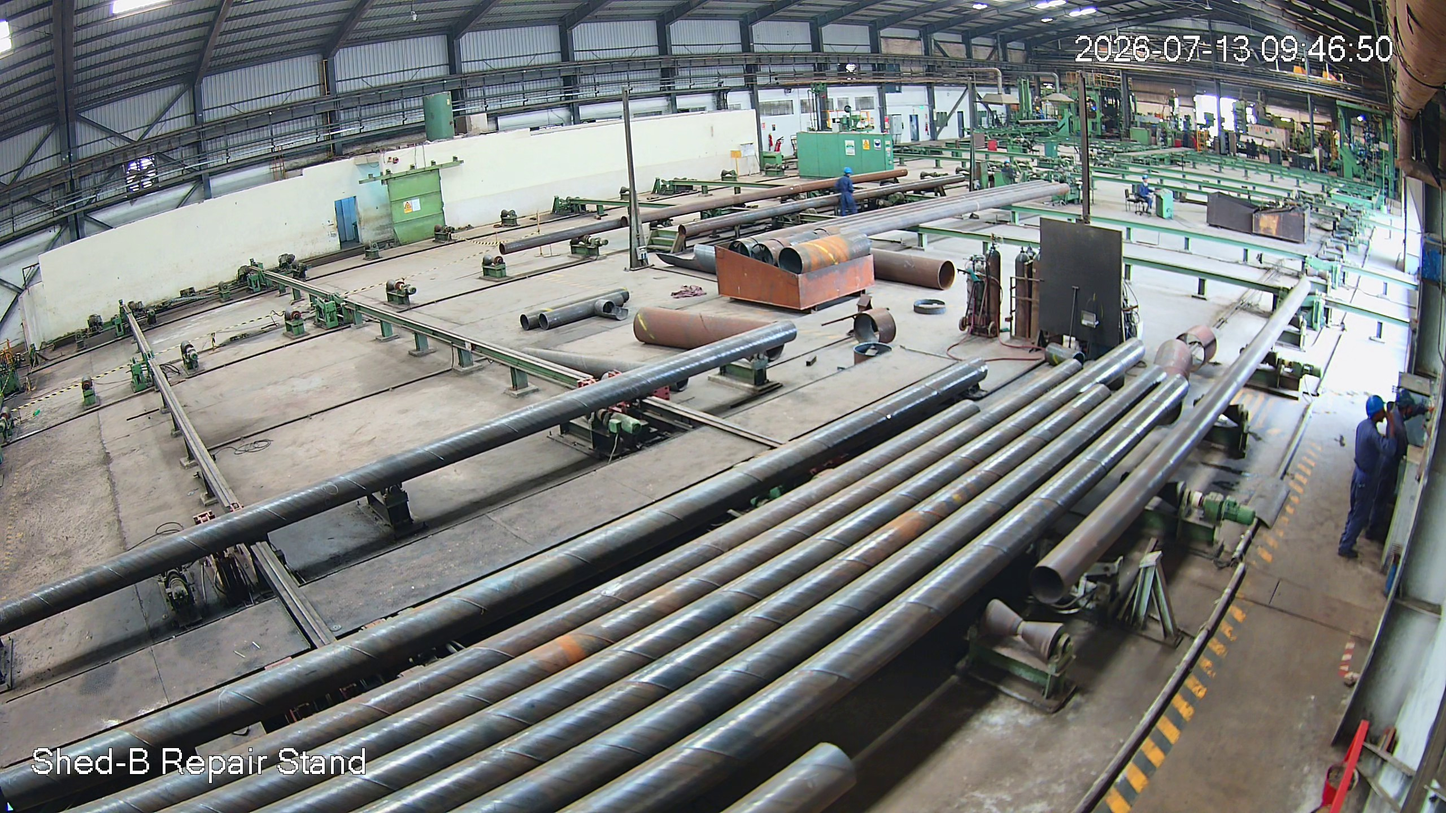Helmet: (1357, 390, 1389, 425), (1391, 383, 1418, 424), (842, 166, 856, 180)
Person: (1369, 389, 1423, 553), (1343, 395, 1388, 569), (838, 166, 855, 217)
